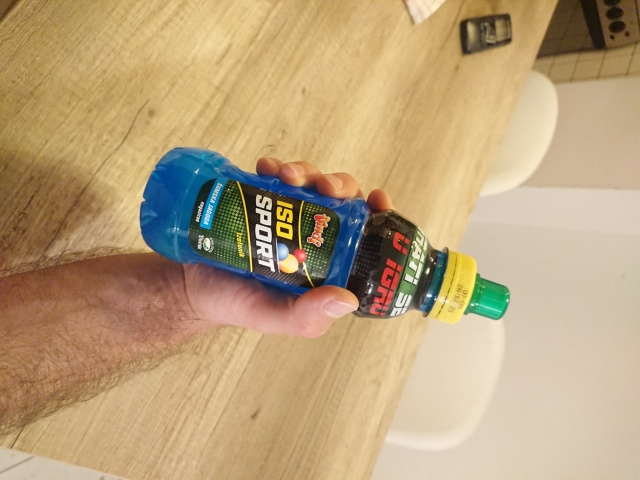Vindi Iso Sport Forest Strawberries 500mL: (138, 145, 512, 326)
